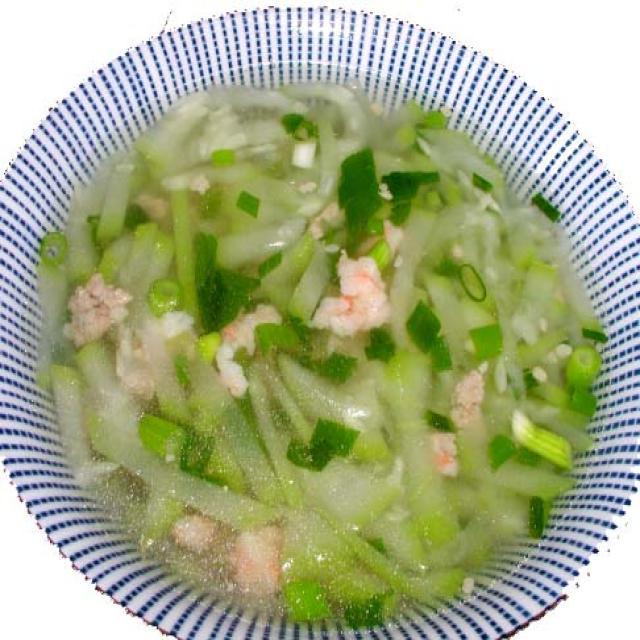canh bau: (37, 85, 604, 625)
